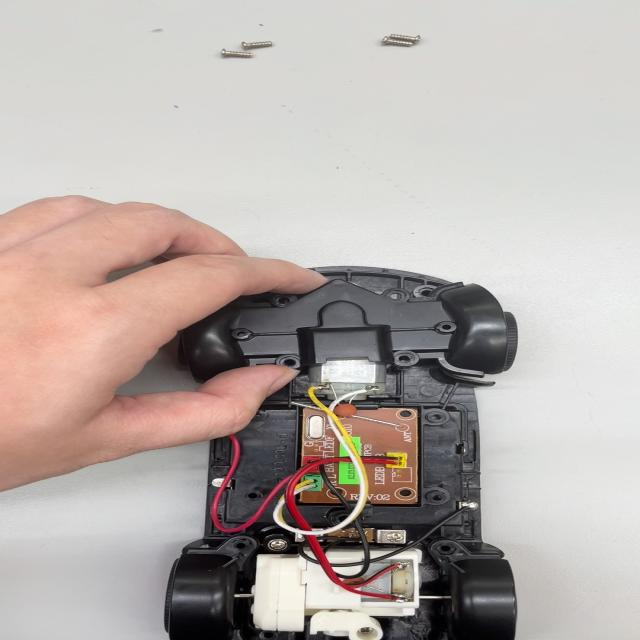motor_cover: (226, 284, 478, 375)
